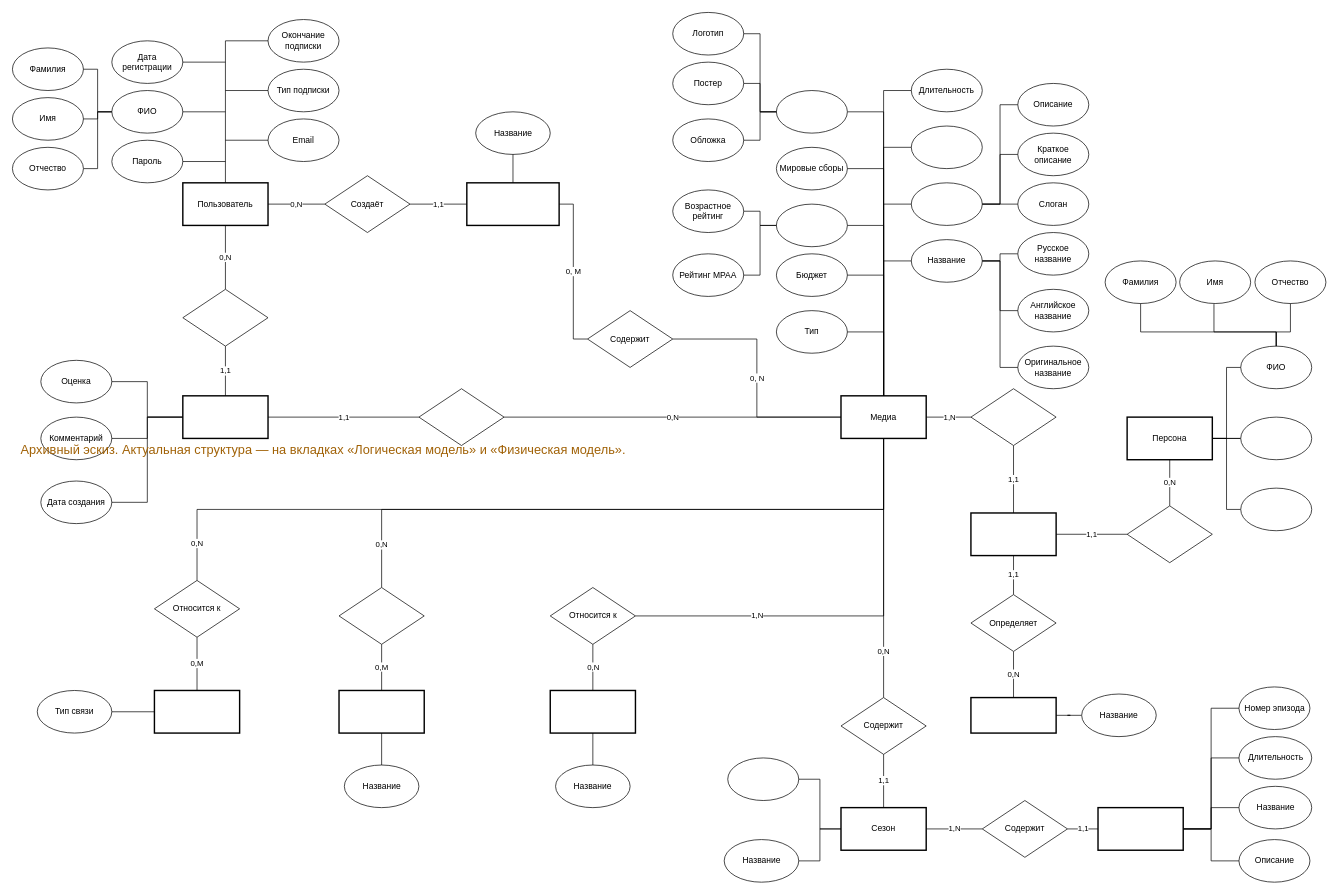
The diagram is 1338 pixels wide and 895 high, and some of its shapes have lost their labels. Here are the shapes that lost their labels. From the top down, the centre of each, then its label:
At point (811, 111): "Изображения".
At point (946, 147): "Год выпуска".
At point (512, 204): "Список пользователя".
At point (946, 203): "О фильме".
At point (811, 225): "Ограничения".
At point (225, 317): "Пишет".
At point (225, 417): "Рецензия".
At point (461, 417): "Имеет".
At point (1013, 417): "Включает".
At point (1276, 438): "Дата рождения".
At point (1276, 509): "Биография".
At point (1013, 534): "Роли персон".
At point (1169, 534): "Участвует".
At point (381, 615): "Производится в".
At point (196, 711): "Сиквелы".
At point (381, 711): "Страна".
At point (592, 711): "Жанр".
At point (1013, 715): "Роль".
At point (763, 779): "Номер сезона".
At point (1140, 829): "Эпизод".
